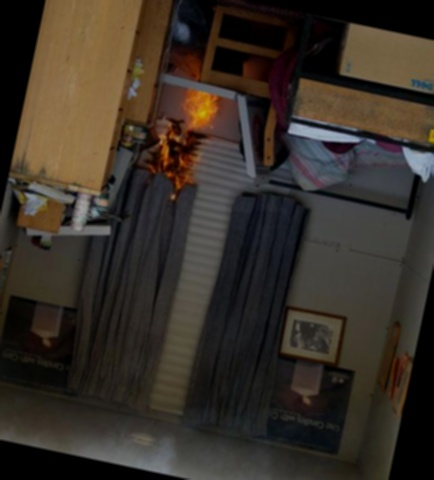fire: (141, 76, 233, 202)
smoke: (0, 381, 384, 480)
